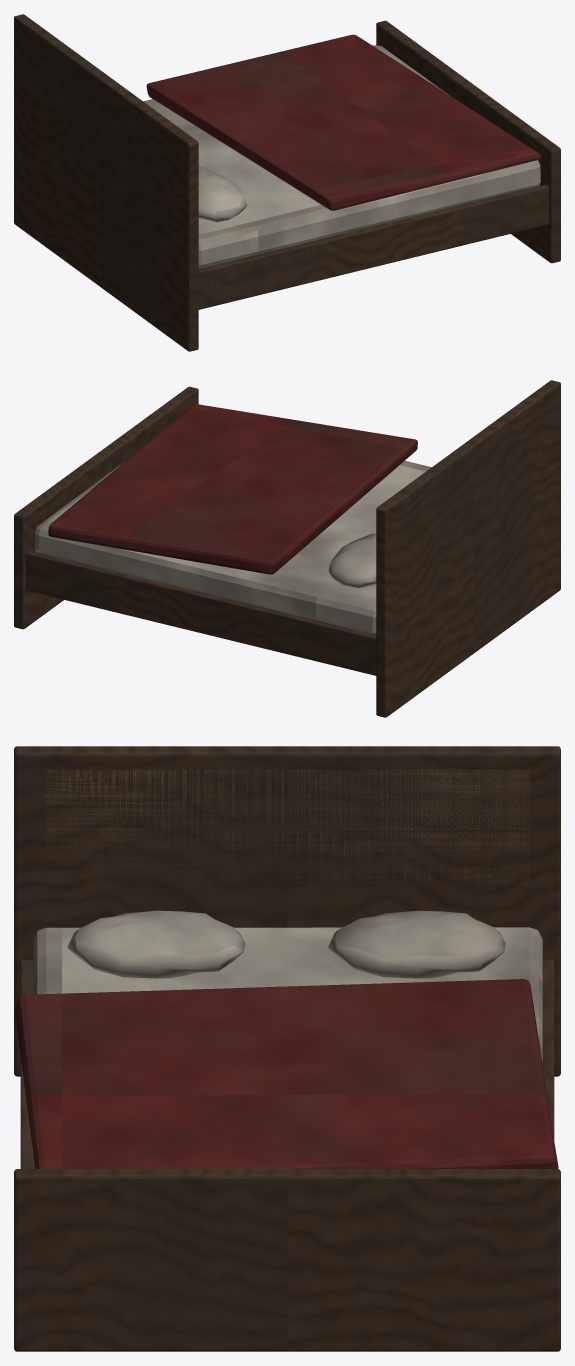
File: B01_double_bed_v1.glb
3 views of the same model, one above another, from view 1: azimuth 30°, elevation 25°; view 2: azimuth 150°, elevation 25°; view 3: azimuth 270°, elevation 25° (orthographic). The views are drawn at different scales.
Visible parts, largest first — view 1: B01_double_bed_v1; view 2: B01_double_bed_v1; view 3: B01_double_bed_v1.
Boxes of the visible parts, box(x1,y1,x2,y2) form: B01_double_bed_v1: box(14, 14, 560, 351); B01_double_bed_v1: box(14, 380, 560, 717); B01_double_bed_v1: box(14, 746, 560, 1351).
Size of the model in its own units: 2 by 1.07 by 1.63.
4 materials, 4 textured.
